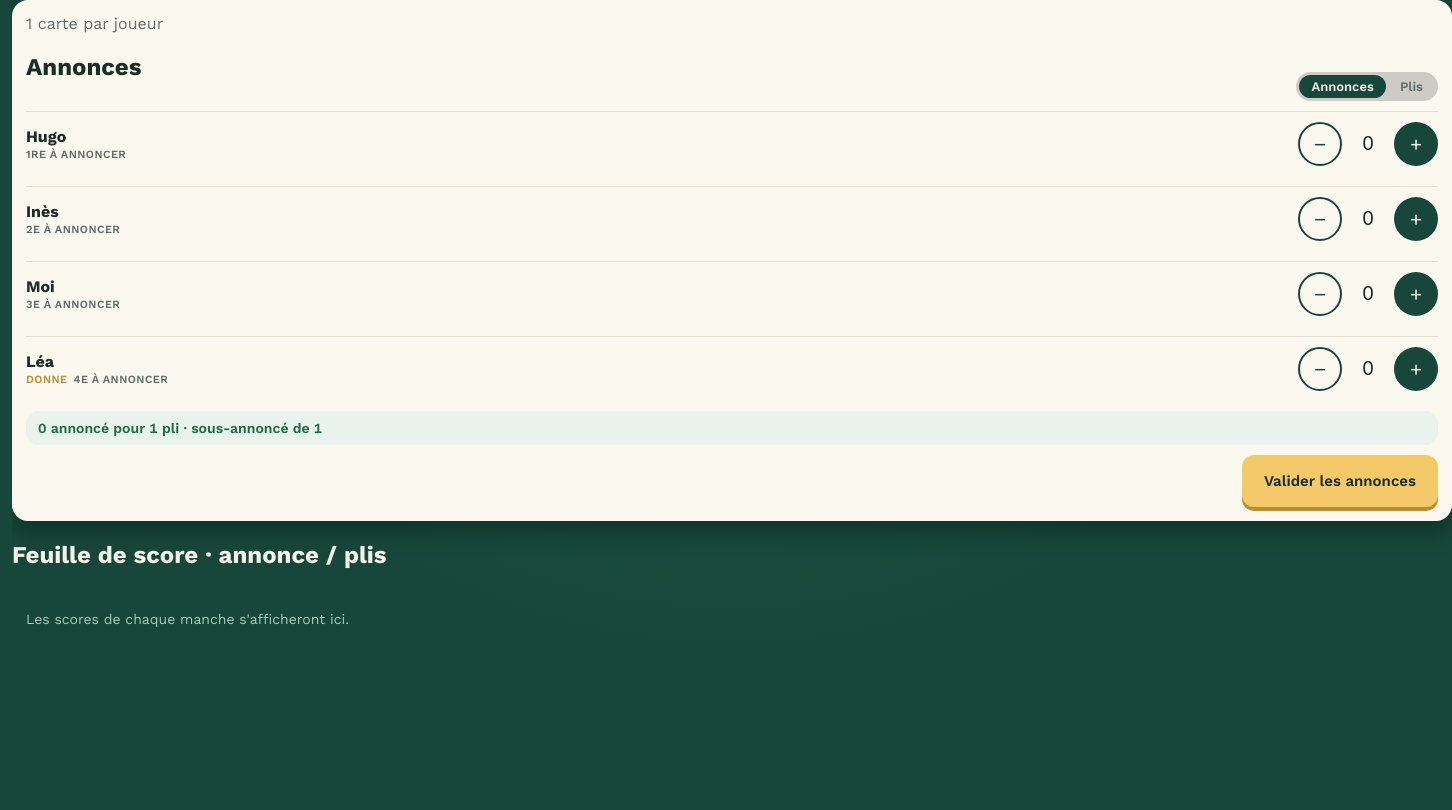
it: FeuilleWizard › accepte les annonces sans variante puis demande de saisir les plis
What coordinates should you click on to do the following:
click the button "Valider les annonces"
I would click on:
 (1340, 481)
Its box is [1242,455,1438,507].
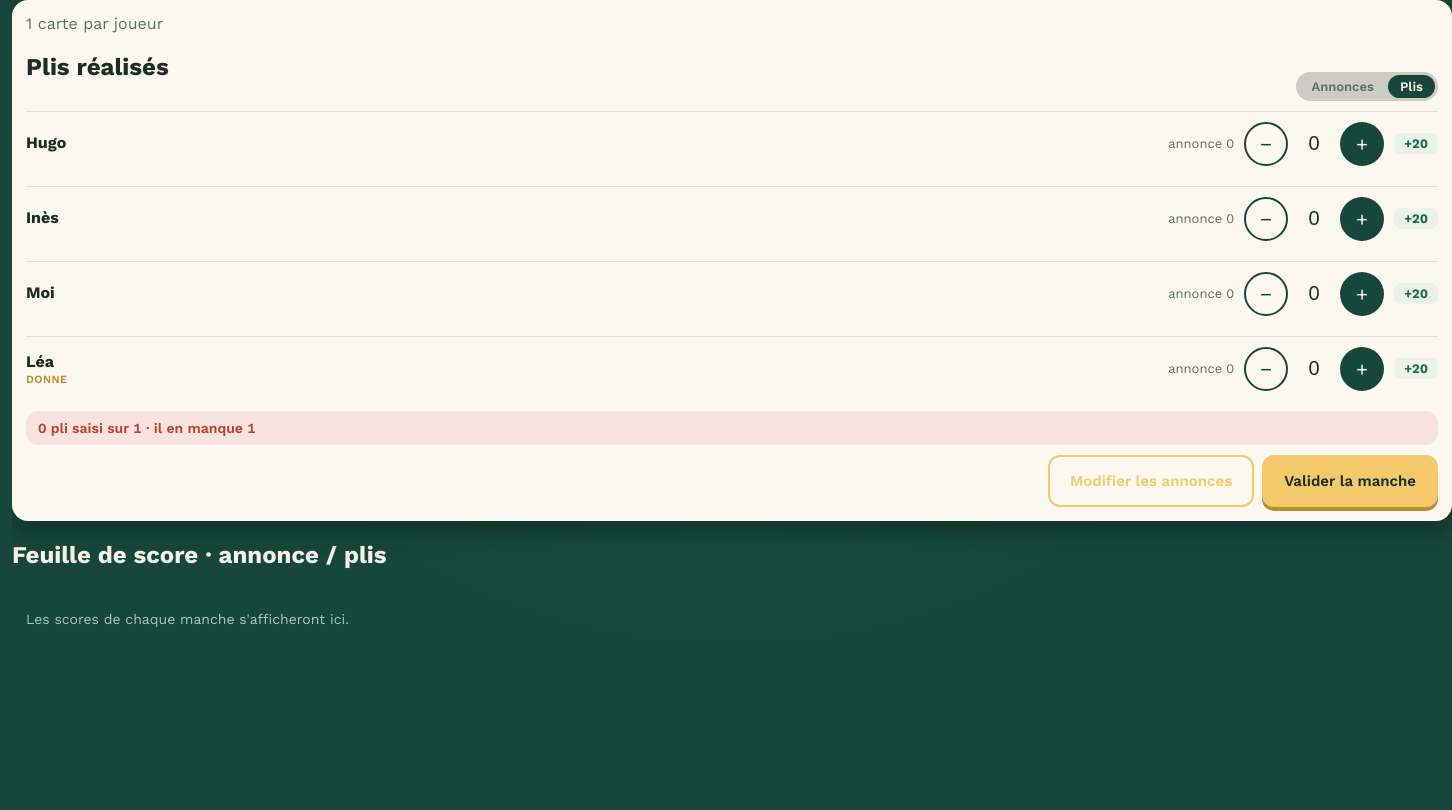
Expected: the heading "Plis réalisés" is shown, [26,53,169,81]
Expected: the text with class "status" shows "sur 1", [38,420,256,436]
Expected: the button "Valider la manche" is disabled, [1262,455,1438,507]
